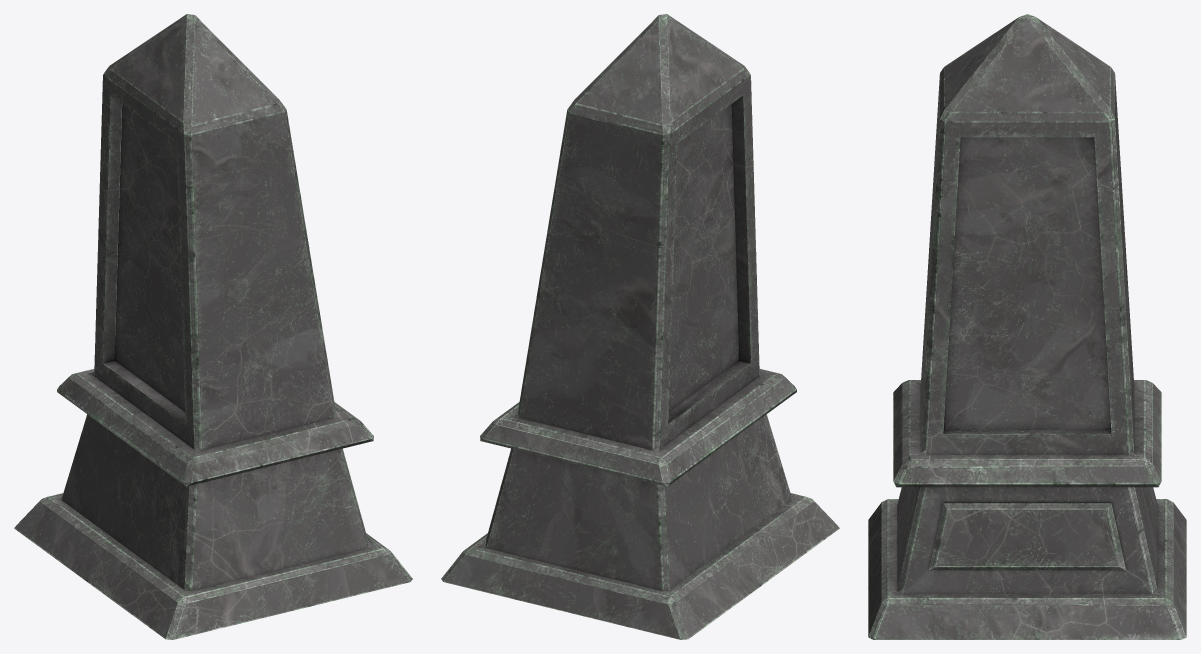
Rendered from gravestone_3.fbx.
3 renders of one model, left to right at view 1: azimuth 30°, elevation 25°; view 2: azimuth 150°, elevation 25°; view 3: azimuth 270°, elevation 25°, orthographic.
Parts seen in each view (by area): view 1: gravestone_3; view 2: gravestone_3; view 3: gravestone_3.
Boxes of the visible parts, <box> form: gravestone_3: <box>14,14,412,639</box>; gravestone_3: <box>441,14,839,639</box>; gravestone_3: <box>868,14,1186,639</box>.
Size of the model in its own units: 83.72 by 176 by 91.87.
Materials: 1 (1 with a texture image).
